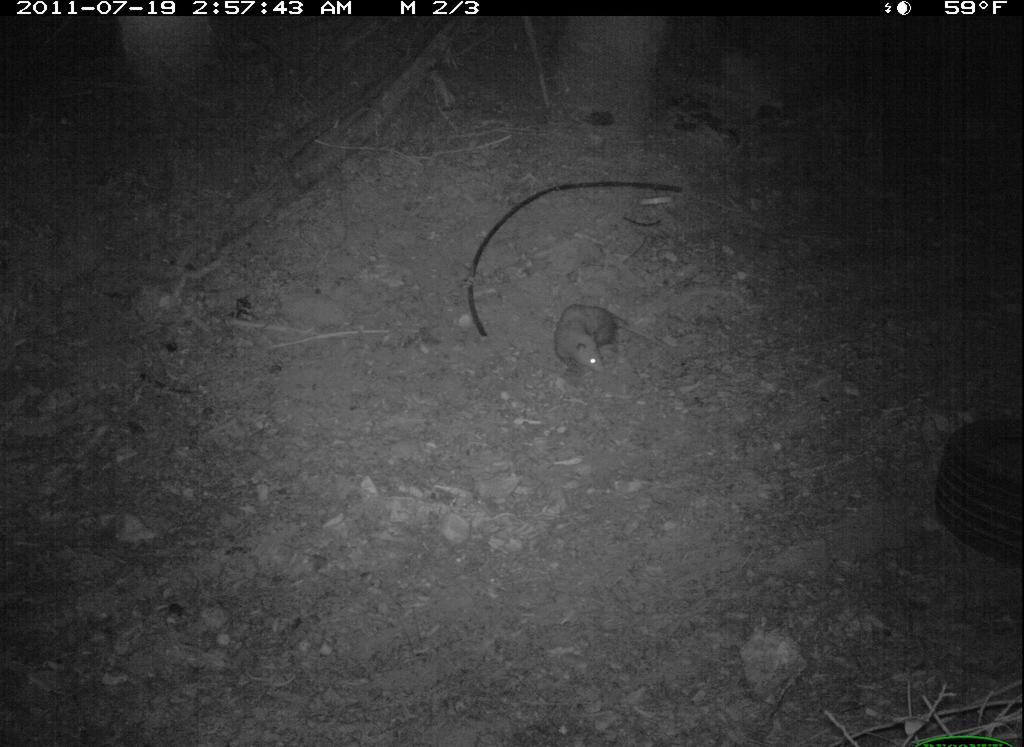opossum: (551, 296, 660, 383)
